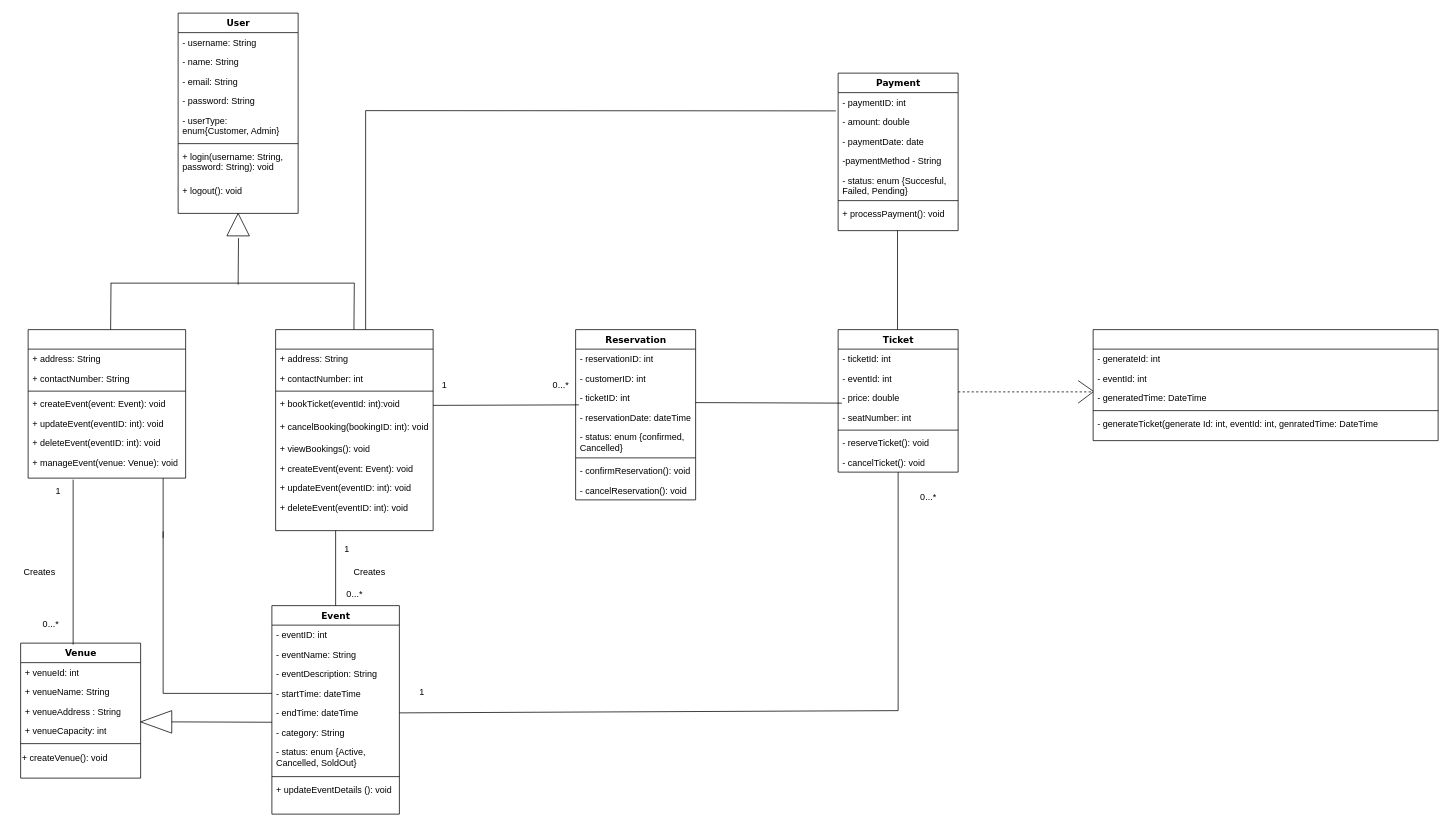
This 1451x827 diagram has some shape labels left out. The shapes that lost their labels are listed below. From the top down, each one's box as (x1, y1, x2, y2) in pixels, then its label:
(27, 329, 186, 478): Admin
(1092, 329, 1438, 441): Ticket Generator
(275, 329, 433, 531): Customer
